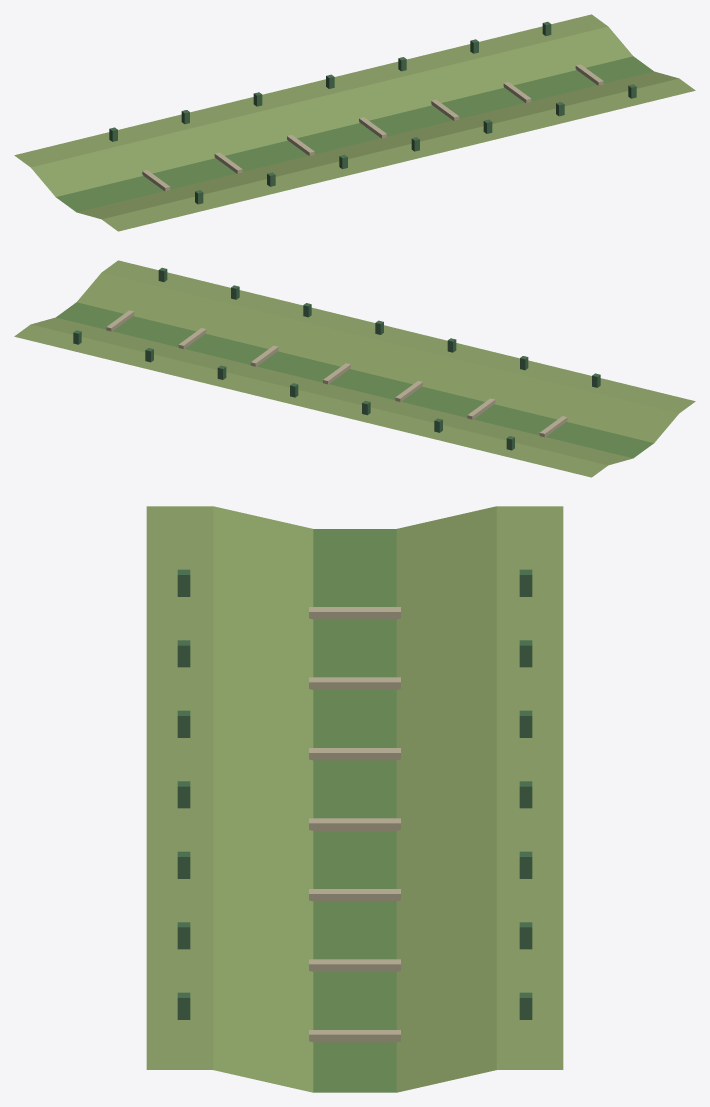
The model's file is vegetated-swale.glb.
3 renders of one model, top to bottom at view 1: azimuth 30°, elevation 25°; view 2: azimuth 150°, elevation 25°; view 3: azimuth 270°, elevation 25°, orthographic. The views are drawn at different scales.
Parts seen in each view (by area): view 1: vegetated-swale; view 2: vegetated-swale; view 3: vegetated-swale.
Boxes of the visible parts, x1,y1,x2,y2 form: vegetated-swale: [14, 14, 695, 231]; vegetated-swale: [14, 260, 695, 477]; vegetated-swale: [146, 506, 563, 1092].
Bounding box in the file's own units: 32 × 1.18 × 10.
